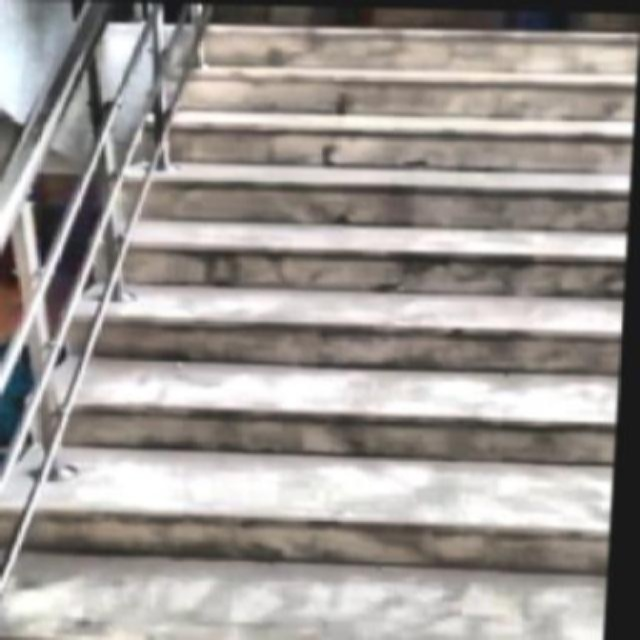stair: (74, 6, 638, 639)
